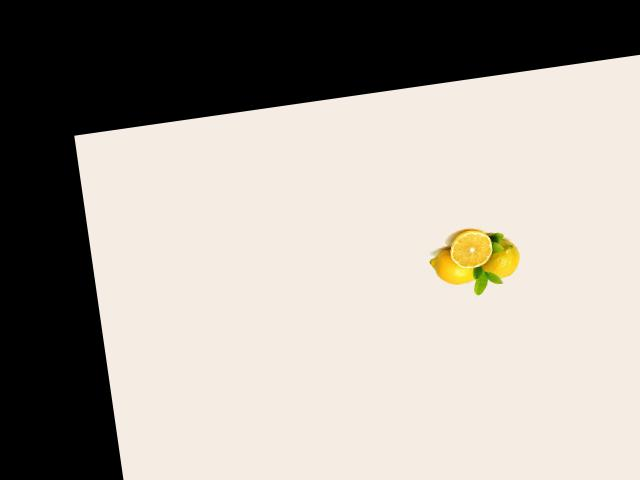lemon: (472, 232, 525, 285)
